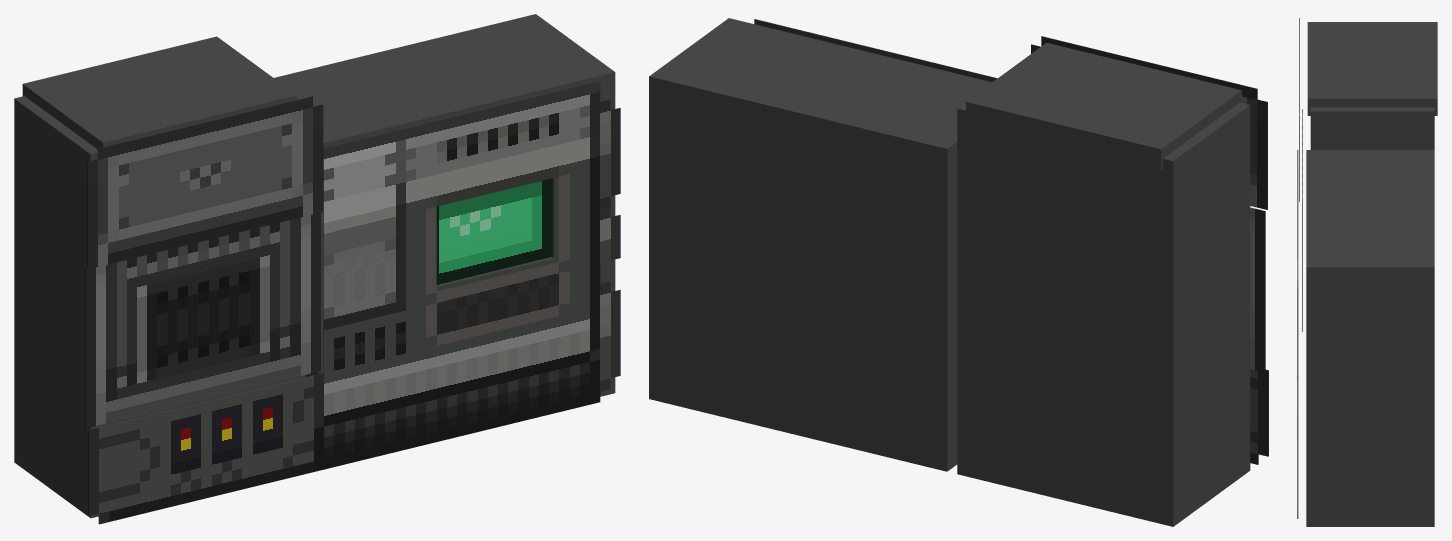
File: CMU3DRMCMachinePropBig3.glb
The picture shows the model from 3 angles, left to right: view 1: azimuth 30°, elevation 25°; view 2: azimuth 150°, elevation 25°; view 3: azimuth 270°, elevation 25°; orthographic projection. The views are drawn at different scales.
Parts seen in each view (by area): view 1: monitor casting and bezel, left recessed grille, left service cabinet, left top casting, left status controls, top bezel, left raised cap, recessed green display, right bezel, lower screen shelf; view 2: left service cabinet, monitor rear cabinet, top bezel, left raised cap, lower screen shelf, left bezel, right bezel, left top casting, left recessed grille, left status controls, monitor casting and bezel; view 3: right bezel, top bezel, left raised cap, left service cabinet, monitor casting and bezel, left recessed grille, left top casting.
Part boxes in pixels (x1,y1,x2,y2): monitor casting and bezel: (323,80,620,469); left recessed grille: (85,212,320,428); left service cabinet: (14,96,305,518); left top casting: (87,96,323,269); left status controls: (88,373,323,524); top bezel: (274,14,615,229); left raised cap: (22,36,297,149); recessed green display: (436,178,551,284); right bezel: (552,177,615,396); lower screen shelf: (436,257,553,291); left service cabinet: (957,102,1250,526); monitor rear cabinet: (659,89,936,469); top bezel: (649,18,991,234); left raised cap: (966,42,1241,170); lower screen shelf: (710,264,833,442); left bezel: (834,213,957,471); right bezel: (649,162,710,413); left top casting: (1031,36,1267,209); left recessed grille: (1250,207,1265,372); left status controls: (1250,369,1268,464); monitor casting and bezel: (754,19,997,82); right bezel: (1306,336,1434,526); top bezel: (1306,150,1434,336); left raised cap: (1307,22,1437,115); left service cabinet: (1310,107,1434,149); monitor casting and bezel: (1297,150,1298,518); left recessed grille: (1302,109,1302,331); left top casting: (1299,18,1299,201).
Size of what is drawn, in the model's own units: 1.62 by 1.09 by 0.459.
Materials: 6 (5 with a texture image).
